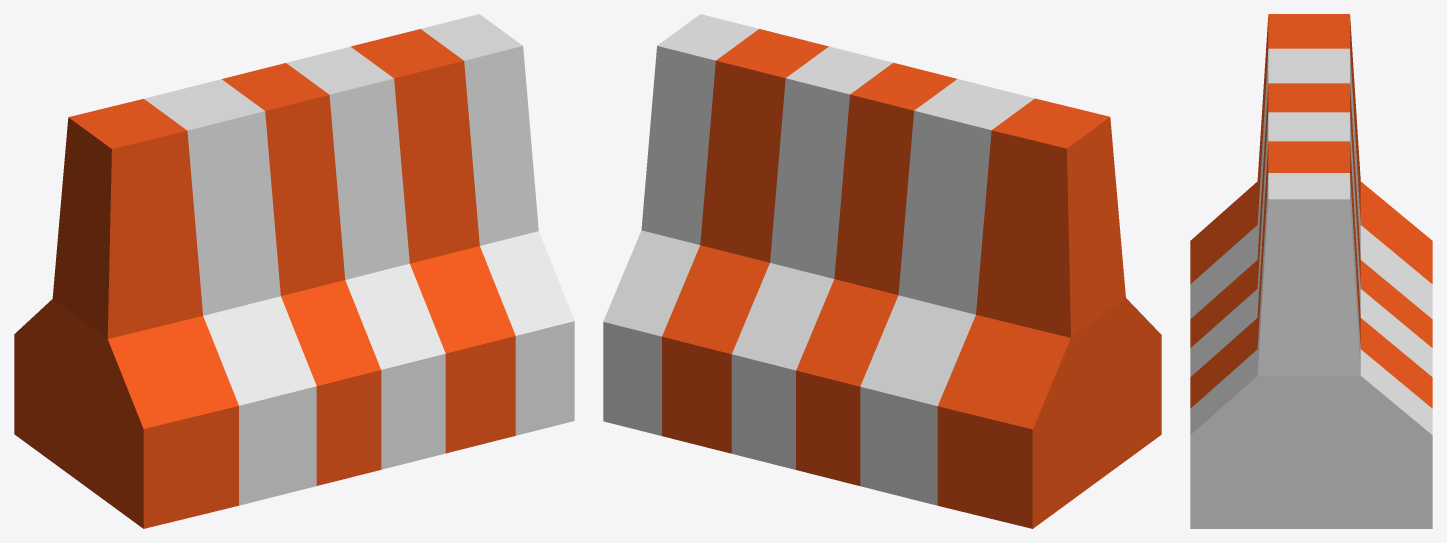
File: concretocolorido.fbx
The picture shows the model from 3 angles, left to right: view 1: azimuth 30°, elevation 25°; view 2: azimuth 150°, elevation 25°; view 3: azimuth 270°, elevation 25°; orthographic projection. The views are drawn at different scales.
Parts seen in each view (by area): view 1: Cubo; view 2: Cubo; view 3: Cubo.
Part boxes in pixels (box(x1,y1,x2,y2)): Cubo: box(14, 14, 574, 528); Cubo: box(603, 14, 1161, 528); Cubo: box(1190, 14, 1432, 528).
Bounding box in the file's own units: 904 × 701 × 470.
